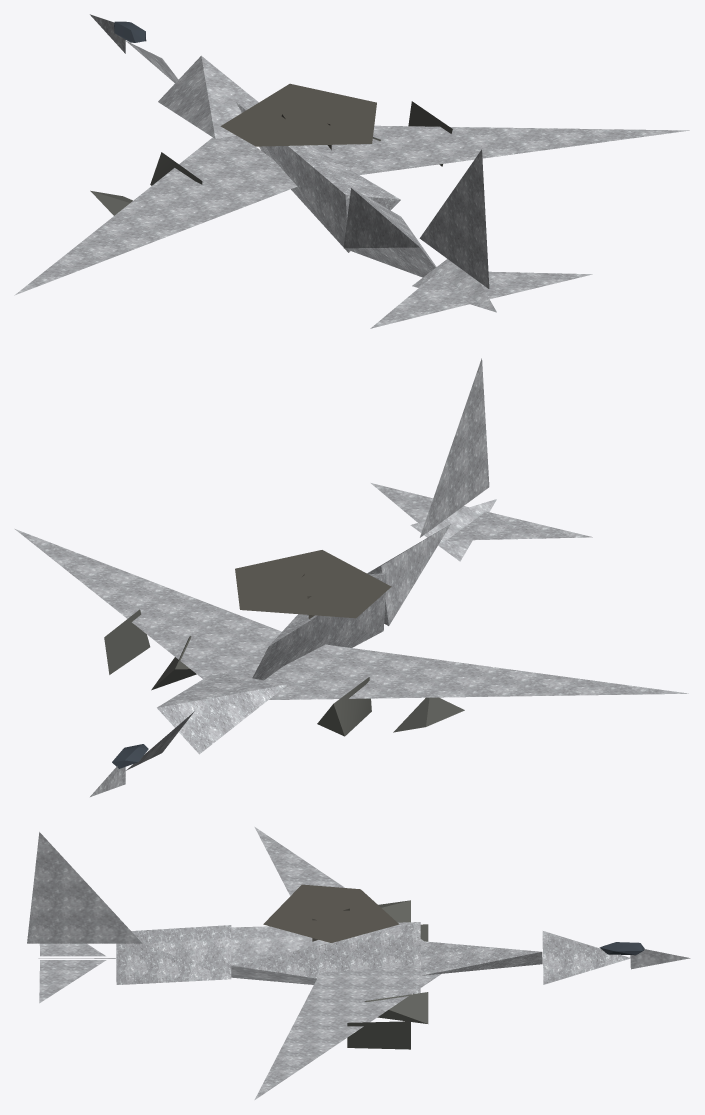
The model's file is aew_e3_us_aewc_LOD2.glb.
3 renders of one model, top to bottom at view 1: azimuth 30°, elevation 25°; view 2: azimuth 150°, elevation 25°; view 3: azimuth 270°, elevation 25°, orthographic. The views are drawn at different scales.
Visible parts, largest first — view 1: aew_e3_us_aewc_LOD2_body, aew_e3_us_aewc_LOD2_deck, aew_e3_us_aewc_LOD2_gun, aew_e3_us_aewc_LOD2_glass; view 2: aew_e3_us_aewc_LOD2_body, aew_e3_us_aewc_LOD2_deck, aew_e3_us_aewc_LOD2_gun; view 3: aew_e3_us_aewc_LOD2_body, aew_e3_us_aewc_LOD2_deck, aew_e3_us_aewc_LOD2_gun, aew_e3_us_aewc_LOD2_glass.
Boxes of the visible parts, x1,y1,x2,y2 form: aew_e3_us_aewc_LOD2_body: (14, 14, 689, 328); aew_e3_us_aewc_LOD2_deck: (220, 83, 376, 150); aew_e3_us_aewc_LOD2_gun: (90, 101, 452, 215); aew_e3_us_aewc_LOD2_glass: (114, 21, 146, 42); aew_e3_us_aewc_LOD2_body: (15, 358, 688, 796); aew_e3_us_aewc_LOD2_deck: (235, 550, 391, 618); aew_e3_us_aewc_LOD2_gun: (104, 609, 464, 736); aew_e3_us_aewc_LOD2_body: (27, 827, 690, 1099); aew_e3_us_aewc_LOD2_deck: (263, 884, 399, 942); aew_e3_us_aewc_LOD2_gun: (347, 900, 428, 1049); aew_e3_us_aewc_LOD2_glass: (599, 942, 644, 955).
Bounding box in the file's own units: 44.75 × 12.01 × 46.71.
Materials: 4 (1 with a texture image).
